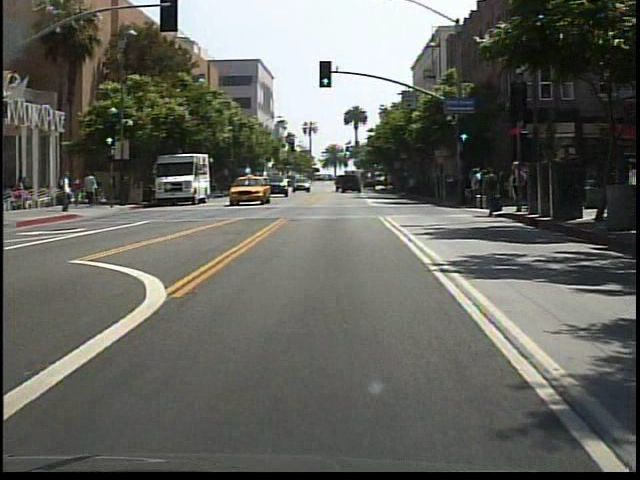person: (479, 165, 502, 220), (60, 168, 76, 215), (13, 174, 31, 213), (85, 168, 102, 207), (73, 174, 85, 207)
